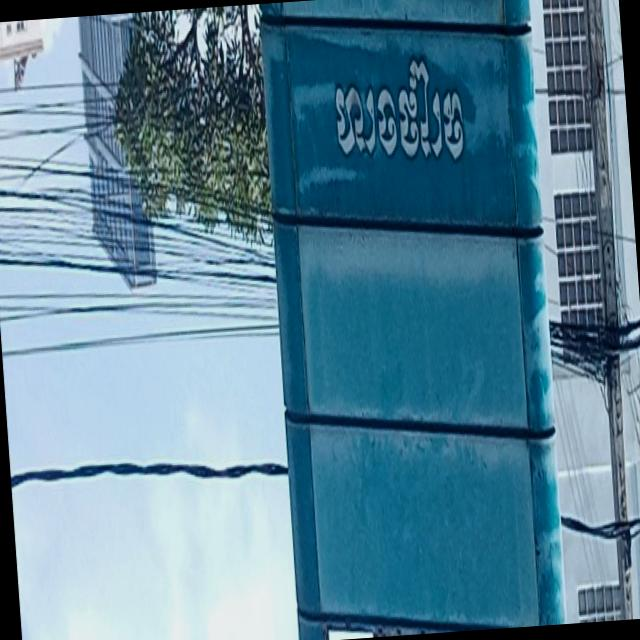Yolov11_80vkh: (322, 39, 476, 191)
